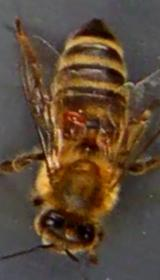varroa_mite: (56, 102, 92, 133)
